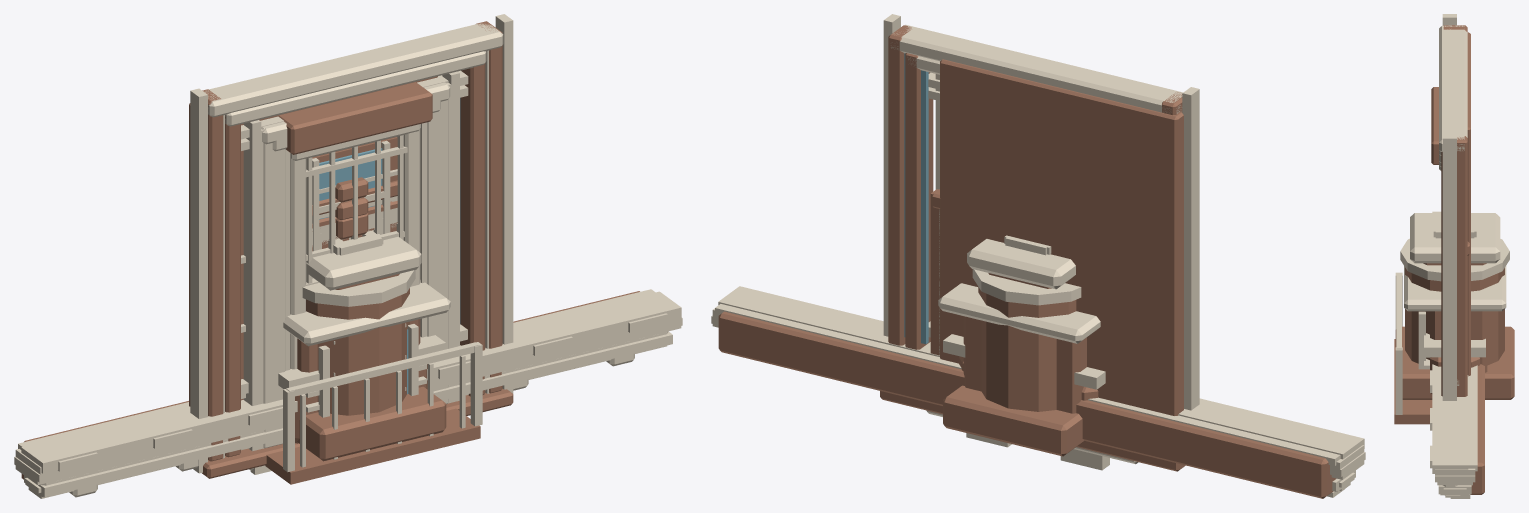
The model's file is townhouse-kit.glb.
3 renders of one model, left to right at view 1: azimuth 30°, elevation 25°; view 2: azimuth 150°, elevation 25°; view 3: azimuth 270°, elevation 25°, orthographic. The views are drawn at different scales.
Visible parts, largest first — view 1: cornice_parapet_06__tile_coping, storefront_pilaster_06__head, storefront_timber_05__jamb_or_pilaster.001, roof_water_tank_06__tank_body, door_rollshutter_08__hood, storefront_pilaster_06__entry_casing, cornice_classical_01__lower_ovolo, roof_water_tank_06__tank_base, door_double_leaf_04__entry_casing, storefront_pilaster_06__jamb_or_pilaster, storefront_timber_05__jamb_or_pilaster, storefront_pilaster_06__jamb_or_pilaster.001 (+42 smaller); view 2: storefront_timber_05__door_leaf, storefront_pilaster_06__door_leaf, cornice_parapet_06__backing, door_gated_07__door_leaf, door_double_leaf_04__door_leaf, cornice_parapet_06__tile_coping, roof_water_tank_06__tank_body, storefront_pilaster_06__head, storefront_timber_05__jamb_or_pilaster.001, roof_water_tank_06__tank_base, storefront_pilaster_06__jamb_or_pilaster.001, storefront_pilaster_06__entry_casing (+13 smaller); view 3: storefront_pilaster_06__entry_casing.001, storefront_pilaster_06__jamb_or_pilaster.001, storefront_pilaster_06__head, cornice_parapet_06__tile_coping, roof_water_tank_06__tank_base, roof_chimney_brick_01__cap_slab, roof_water_tank_06__tank_body, roof_dormer_sash_03__dormer_roof, roof_water_tank_06__tank_lid, storefront_pilaster_06__door_leaf, cornice_parapet_06__backing, cornice_bracketed_02__moulding.001 (+15 smaller).
Boxes of the visible parts, bbox=[...] form: cornice_parapet_06__tile_coping: bbox=[21, 291, 681, 473]; storefront_pilaster_06__head: bbox=[203, 23, 503, 117]; storefront_timber_05__jamb_or_pilaster.001: bbox=[460, 63, 485, 396]; roof_water_tank_06__tank_body: bbox=[306, 288, 409, 415]; door_rollshutter_08__hood: bbox=[278, 82, 432, 154]; storefront_pilaster_06__entry_casing: bbox=[190, 88, 207, 473]; cornice_classical_01__lower_ovolo: bbox=[24, 332, 672, 497]; roof_water_tank_06__tank_base: bbox=[297, 386, 446, 461]; door_double_leaf_04__entry_casing: bbox=[243, 120, 261, 451]; storefront_pilaster_06__jamb_or_pilaster: bbox=[202, 89, 223, 461]; storefront_timber_05__jamb_or_pilaster: bbox=[225, 115, 240, 457]; storefront_pilaster_06__jamb_or_pilaster.001: bbox=[476, 21, 502, 393]; storefront_timber_05__door_leaf: bbox=[954, 79, 1154, 410]; storefront_pilaster_06__door_leaf: bbox=[940, 59, 1183, 415]; cornice_parapet_06__backing: bbox=[718, 311, 1333, 498]; door_gated_07__door_leaf: bbox=[975, 127, 1082, 312]; door_double_leaf_04__door_leaf: bbox=[1033, 125, 1113, 380]; cornice_parapet_06__tile_coping: bbox=[718, 286, 1364, 459]; roof_water_tank_06__tank_body: bbox=[978, 287, 1076, 411]; storefront_pilaster_06__head: bbox=[891, 24, 1182, 113]; storefront_timber_05__jamb_or_pilaster.001: bbox=[905, 53, 933, 349]; roof_water_tank_06__tank_base: bbox=[943, 385, 1084, 456]; storefront_pilaster_06__jamb_or_pilaster.001: bbox=[888, 25, 911, 345]; storefront_pilaster_06__entry_casing: bbox=[1182, 87, 1199, 410]; storefront_pilaster_06__entry_casing.001: bbox=[1442, 135, 1456, 400]; storefront_pilaster_06__jamb_or_pilaster.001: bbox=[1441, 136, 1467, 396]; storefront_pilaster_06__head: bbox=[1439, 25, 1467, 151]; cornice_parapet_06__tile_coping: bbox=[1432, 211, 1468, 473]; roof_water_tank_06__tank_base: bbox=[1395, 326, 1514, 399]; roof_chimney_brick_01__cap_slab: bbox=[1410, 213, 1500, 263]; roof_water_tank_06__tank_body: bbox=[1405, 267, 1504, 365]; roof_dormer_sash_03__dormer_roof: bbox=[1404, 266, 1506, 311]; roof_water_tank_06__tank_lid: bbox=[1400, 238, 1509, 281]; storefront_pilaster_06__door_leaf: bbox=[1467, 32, 1470, 376]; cornice_parapet_06__backing: bbox=[1470, 364, 1484, 494]; cornice_bracketed_02__moulding.001: bbox=[1468, 365, 1477, 471].
Size of the model in its own units: 5.08 by 3.03 by 1.01.
